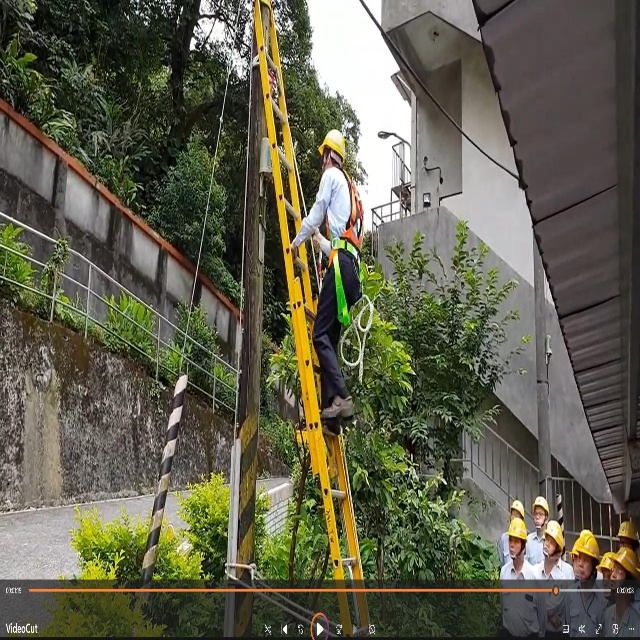Arnes_seguridad: (319, 166, 365, 341)
